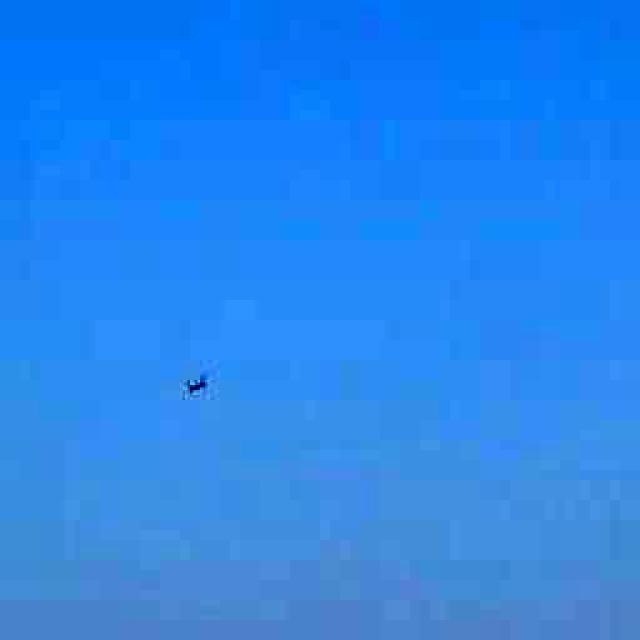bird: (162, 361, 225, 411)
